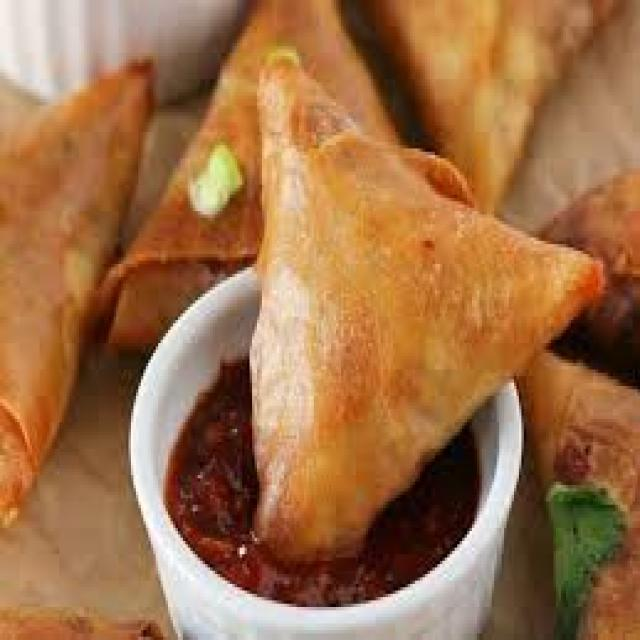SAMOSA: (250, 59, 603, 558), (106, 0, 393, 343), (0, 59, 151, 521), (516, 356, 638, 637)
